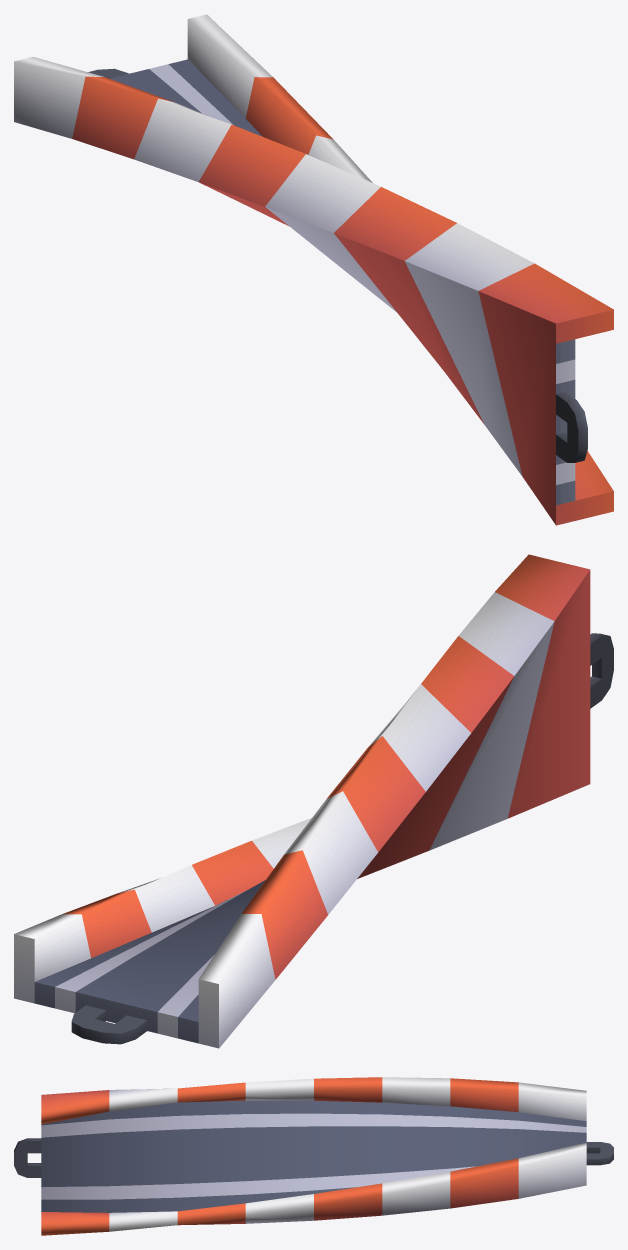
Rendered from track-road-narrow-straight-skew-left-side.glb.
3 renders of one model, top to bottom at view 1: azimuth 30°, elevation 25°; view 2: azimuth 150°, elevation 25°; view 3: azimuth 270°, elevation 25°, orthographic. The views are drawn at different scales.
Parts seen in each view (by area): view 1: track-road-narrow-straight-skew-left-side; view 2: track-road-narrow-straight-skew-left-side; view 3: track-road-narrow-straight-skew-left-side.
Part boxes in pixels (x1,y1,x2,y2): track-road-narrow-straight-skew-left-side: [14, 14, 613, 525]; track-road-narrow-straight-skew-left-side: [14, 554, 613, 1048]; track-road-narrow-straight-skew-left-side: [14, 1077, 613, 1235].
Size of the model in its own units: 3.25 by 3.25 by 13.2.
1 material, 1 textured.
